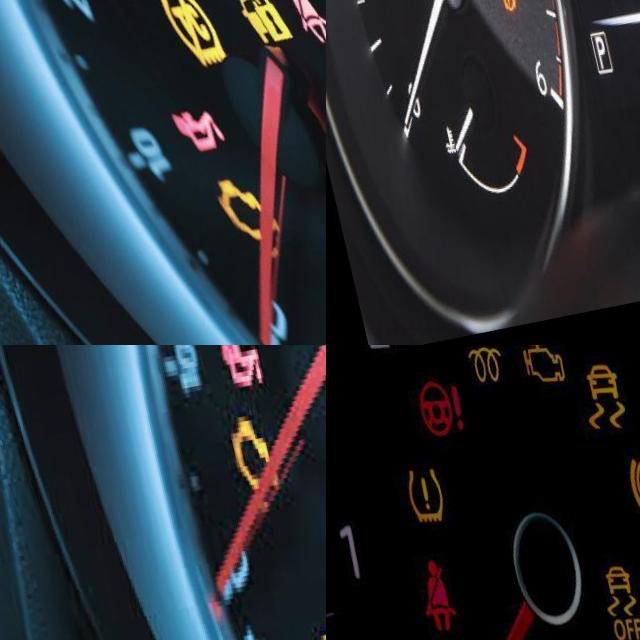Electronic Power Steering: (396, 387, 459, 461)
Seat Belt: (387, 561, 436, 640), (271, 0, 320, 67)
